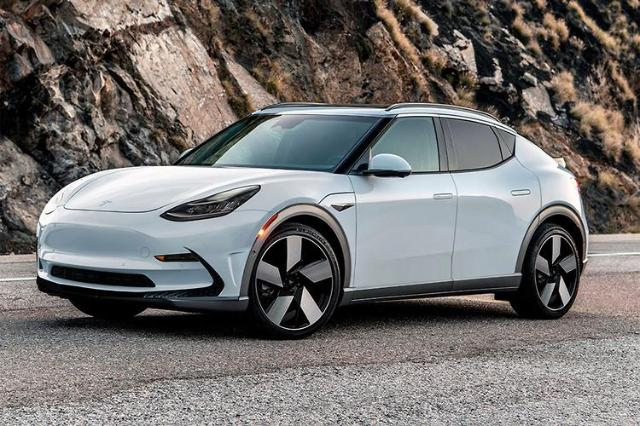tesla: (34, 102, 590, 338)
